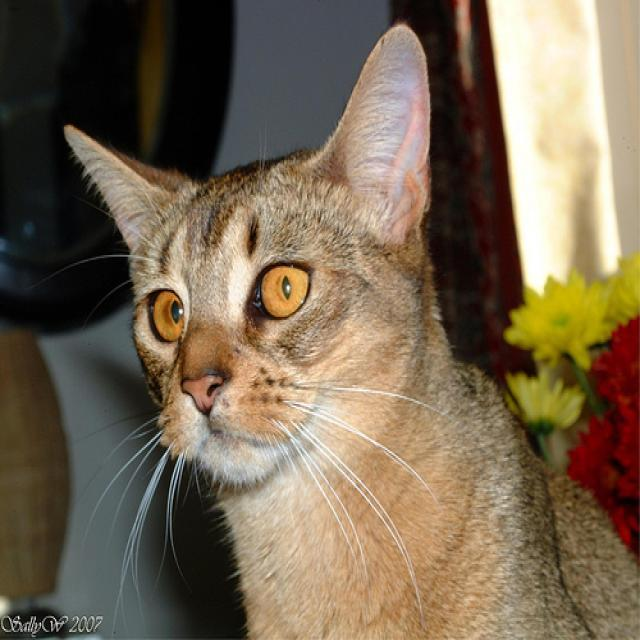Abyssinian: (63, 21, 429, 480)
